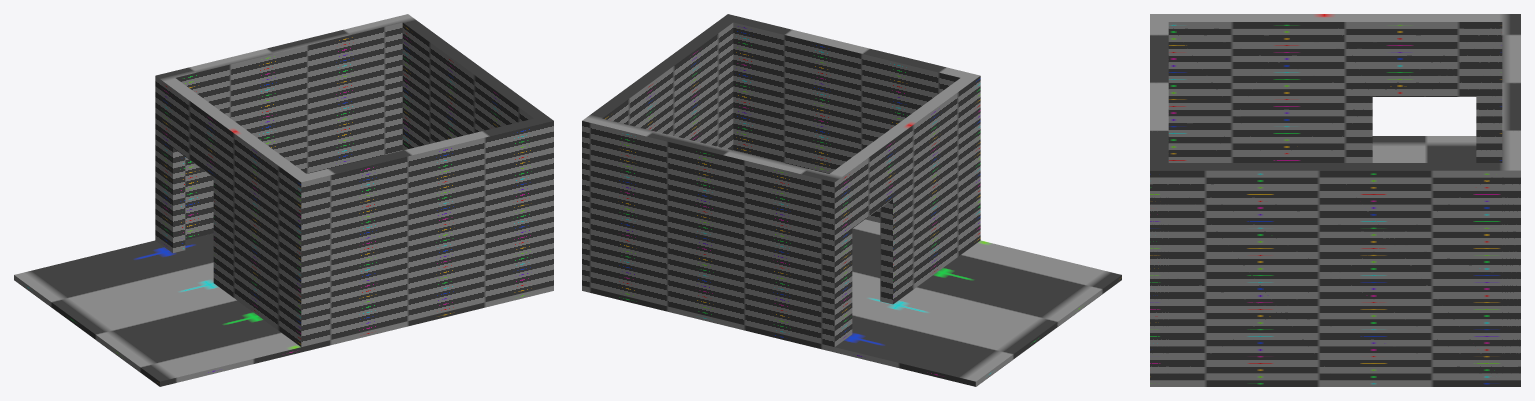
File: WallAndFloor.glb
3 views of the same model, side by side, from view 1: azimuth 30°, elevation 25°; view 2: azimuth 150°, elevation 25°; view 3: azimuth 270°, elevation 25° (orthographic). The views are drawn at different scales.
Parts seen in each view (by area): view 1: HouseWallAndGround; view 2: HouseWallAndGround; view 3: HouseWallAndGround.
Boxes of the visible parts, left/top/right/bottom form: HouseWallAndGround: left=14, top=14, right=553, bottom=386; HouseWallAndGround: left=582, top=14, right=1121, bottom=386; HouseWallAndGround: left=1150, top=14, right=1520, bottom=386.
Size of the model in its own units: 7.8 by 3.22 by 5.
1 material, 1 textured.
